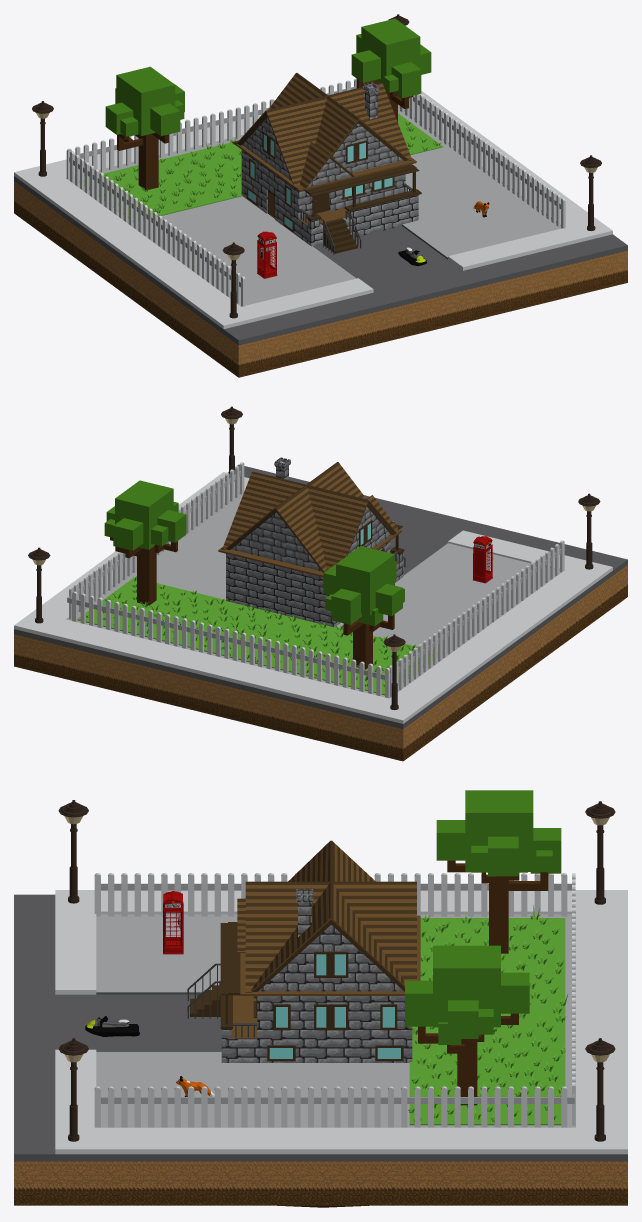
3 renders of one model, top to bottom at view 1: azimuth 30°, elevation 25°; view 2: azimuth 150°, elevation 25°; view 3: azimuth 270°, elevation 25°, orthographic. The views are drawn at different scales.
Parts seen in each view (by area): view 1: Cube.004, Cube.586, OBJRANDOM_PHONEBOOTH; view 2: Cube.004, Cube.586, OBJRANDOM_PHONEBOOTH; view 3: Cube.004, Cube.586, OBJRANDOM_PHONEBOOTH, VEHICLES_WATERBIKE.
Part boxes in pixels (box(x1,y1,x2,y2)): Cube.004: box(14, 14, 627, 377); Cube.586: box(233, 73, 421, 254); OBJRANDOM_PHONEBOOTH: box(257, 231, 277, 278); Cube.004: box(14, 406, 627, 761); Cube.586: box(218, 457, 405, 626); OBJRANDOM_PHONEBOOTH: box(473, 536, 493, 583); Cube.004: box(14, 790, 627, 1205); Cube.586: box(187, 840, 420, 1062); OBJRANDOM_PHONEBOOTH: box(163, 891, 183, 954); VEHICLES_WATERBIKE: box(85, 1016, 139, 1036).
Bounding box in the file's own units: 4000 × 1676 × 4000.
Materials: 35 (4 with a texture image).
